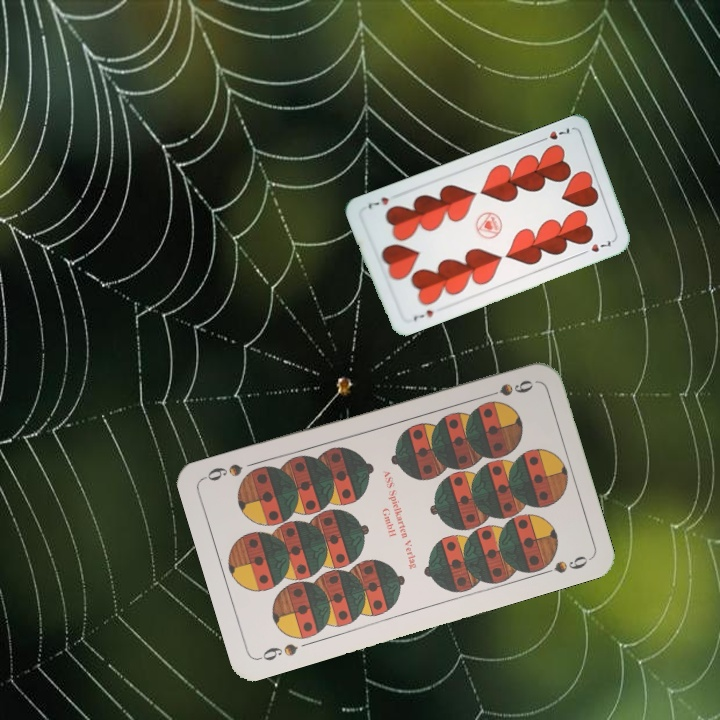H7: (535, 123, 573, 145), (409, 306, 436, 323)
S9: (478, 375, 537, 401), (254, 639, 301, 663)
